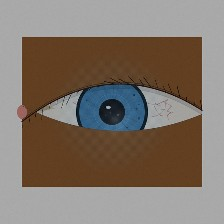pterygium_lesion: (23, 98, 59, 126)
